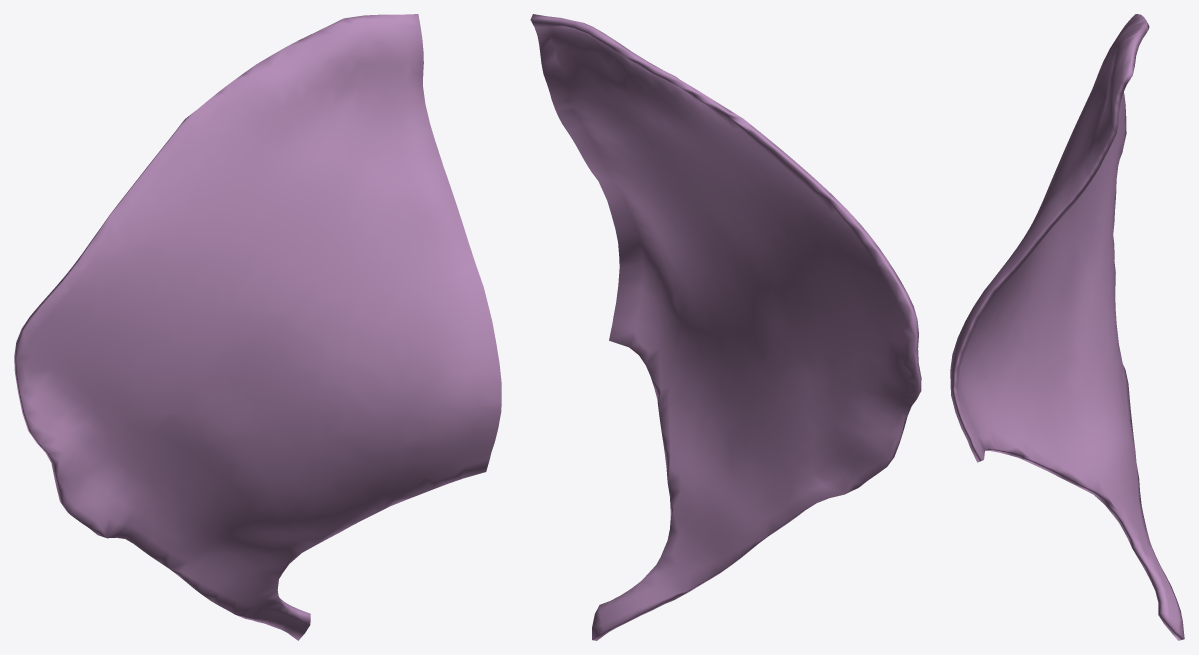
3 views of the same model, side by side, from view 1: azimuth 30°, elevation 25°; view 2: azimuth 150°, elevation 25°; view 3: azimuth 270°, elevation 25° (orthographic). The views are drawn at different scales.
Visible parts, largest first — view 1: 右侧小脑幕; view 2: 右侧小脑幕; view 3: 右侧小脑幕.
Part boxes in pixels (x1,y1,x2,y2): 右侧小脑幕: [14, 14, 501, 640]; 右侧小脑幕: [530, 14, 921, 640]; 右侧小脑幕: [950, 14, 1184, 640].
Bounding box in the file's own units: 0.0897 × 0.1333 × 0.0456.
